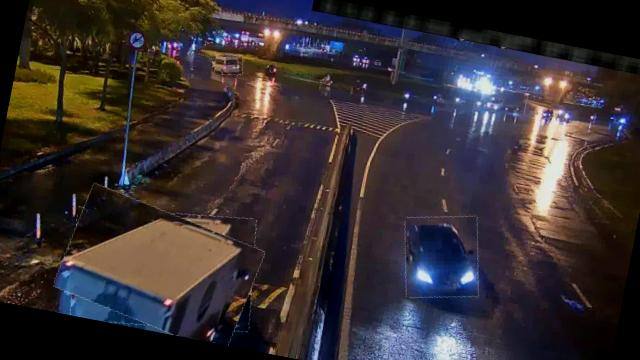Bus: (61, 192, 266, 348), (213, 52, 244, 78)
Car: (394, 206, 489, 307)
Truck: (52, 187, 266, 348), (488, 86, 528, 114)
